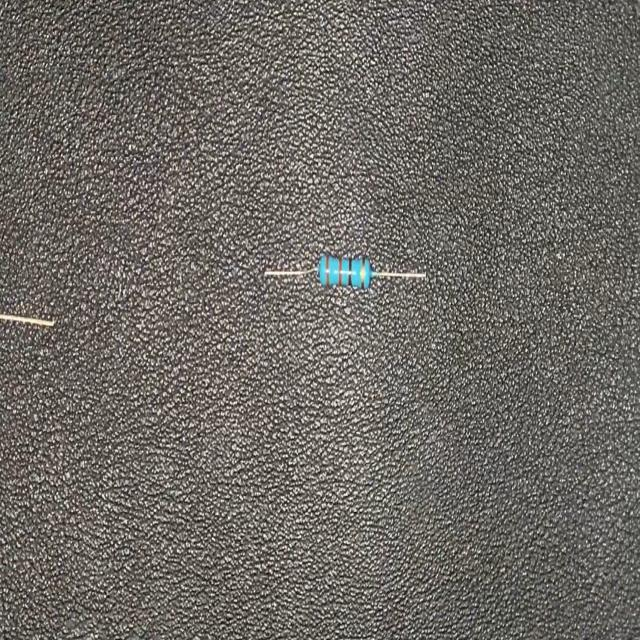resistor: (261, 246, 428, 303)
